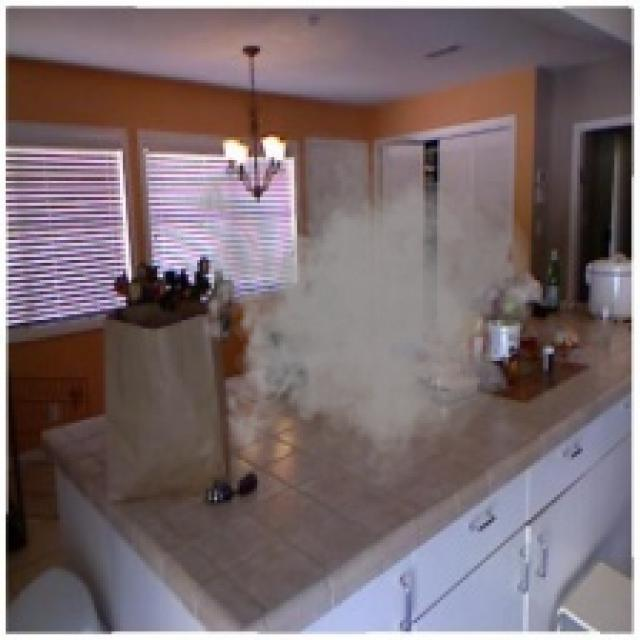Smoke: (182, 120, 538, 509)
